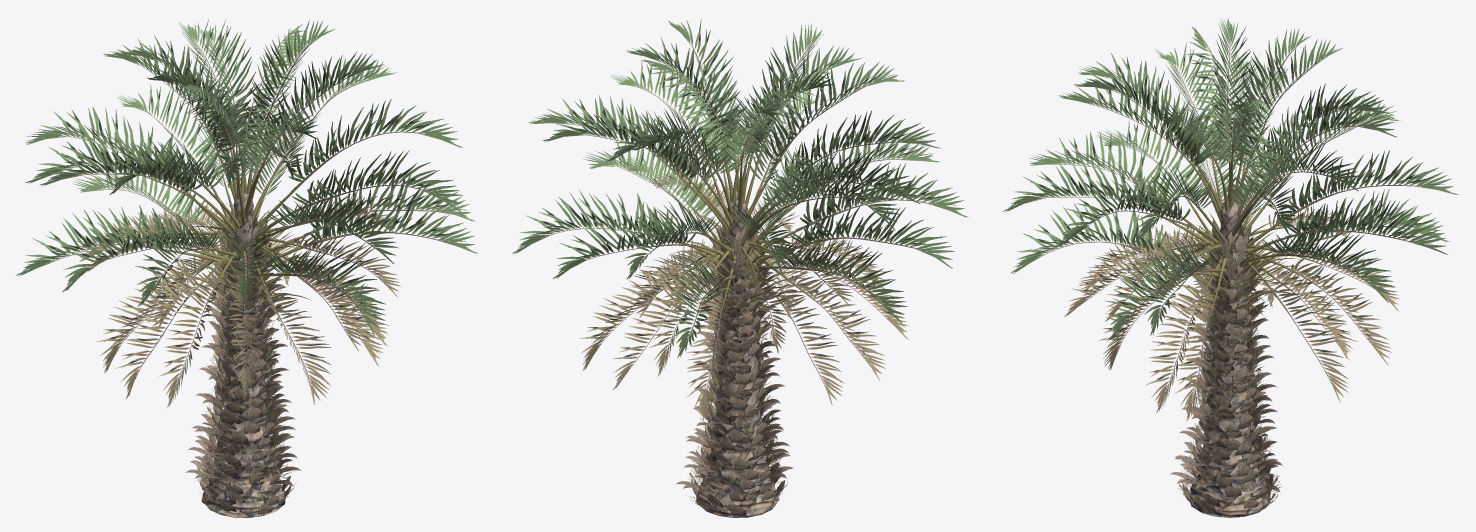
The model's file is palm_new.glb.
3 views of the same model, side by side, from view 1: azimuth 30°, elevation 25°; view 2: azimuth 150°, elevation 25°; view 3: azimuth 270°, elevation 25° (orthographic). The views are drawn at different scales.
Parts seen in each view (by area): view 1: _1_HP_Palm3_Leaf_0, _1_HP_Palm3_Leaf_2_0, _1_HP_Palm3_Trunk_0; view 2: _1_HP_Palm3_Leaf_0, _1_HP_Palm3_Leaf_2_0, _1_HP_Palm3_Trunk_0; view 3: _1_HP_Palm3_Leaf_0, _1_HP_Palm3_Leaf_2_0, _1_HP_Palm3_Trunk_0.
Boxes of the visible parts, x1,y1,x2,y2 form: _1_HP_Palm3_Leaf_0: (15, 19, 478, 408); _1_HP_Palm3_Leaf_2_0: (137, 106, 360, 514); _1_HP_Palm3_Trunk_0: (201, 193, 285, 517); _1_HP_Palm3_Leaf_0: (512, 19, 968, 421); _1_HP_Palm3_Leaf_2_0: (627, 116, 846, 514); _1_HP_Palm3_Trunk_0: (696, 198, 779, 517); _1_HP_Palm3_Leaf_0: (1002, 17, 1458, 421); _1_HP_Palm3_Leaf_2_0: (1120, 113, 1339, 512); _1_HP_Palm3_Trunk_0: (1189, 201, 1270, 517).
Bounding box in the file's own units: 9.98 × 10.9 × 10.21.
3 materials, 3 textured.
